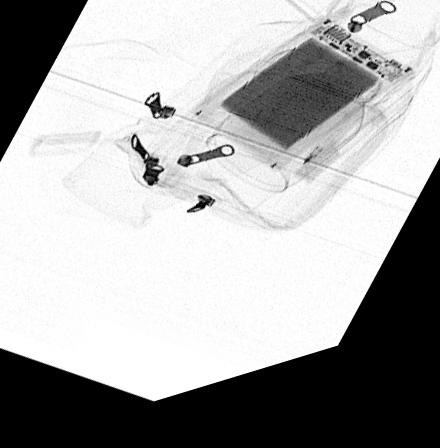Powerbank: (189, 33, 417, 184)
